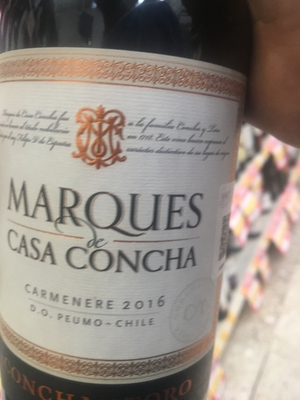marques de casa concha carmenere: (1, 11, 242, 400)
